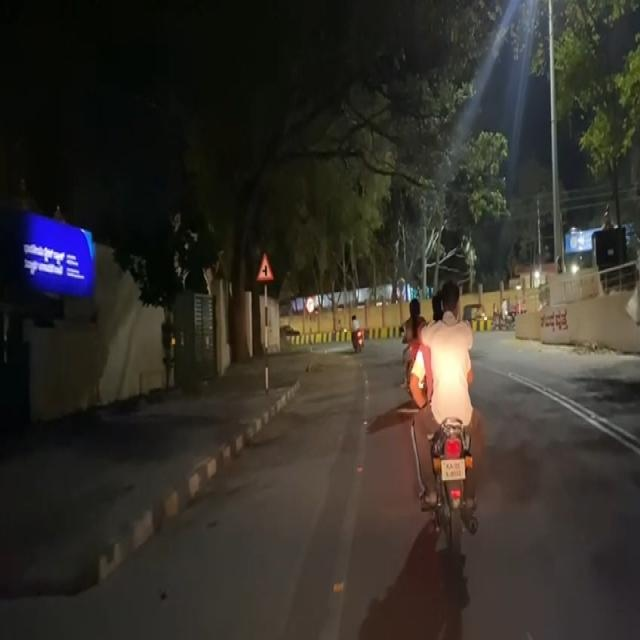bien_nguy_hiem: (256, 250, 274, 282)
